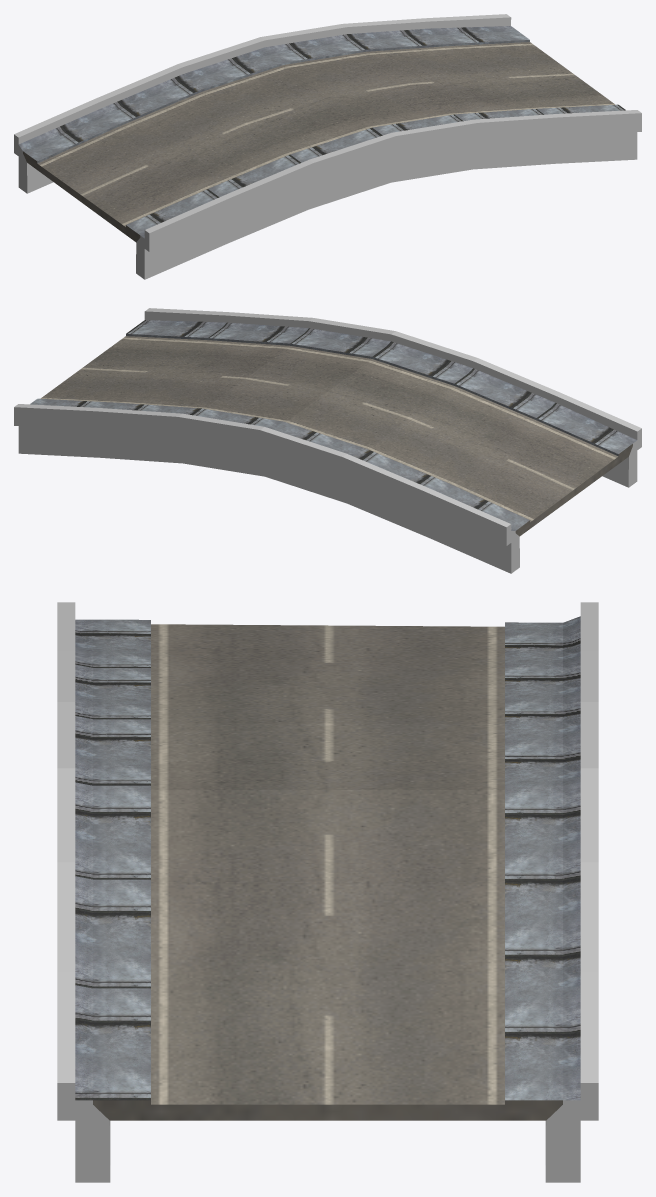
Rendered from Urban_Road4SmallBridge_Model.fbx.
3 views of the same model, one above another, from view 1: azimuth 30°, elevation 25°; view 2: azimuth 150°, elevation 25°; view 3: azimuth 270°, elevation 25° (orthographic). The views are drawn at different scales.
Visible parts, largest first — view 1: Urban_Road4SmallBridge_Mesh; view 2: Urban_Road4SmallBridge_Mesh; view 3: Urban_Road4SmallBridge_Mesh.
Boxes of the visible parts, left/top/right/bottom form: Urban_Road4SmallBridge_Mesh: left=14, top=14, right=641, bottom=279; Urban_Road4SmallBridge_Mesh: left=14, top=308, right=641, bottom=573; Urban_Road4SmallBridge_Mesh: left=57, top=602, right=598, bottom=1182.
Size of the model in its own units: 36 by 6.07 by 17.13.
